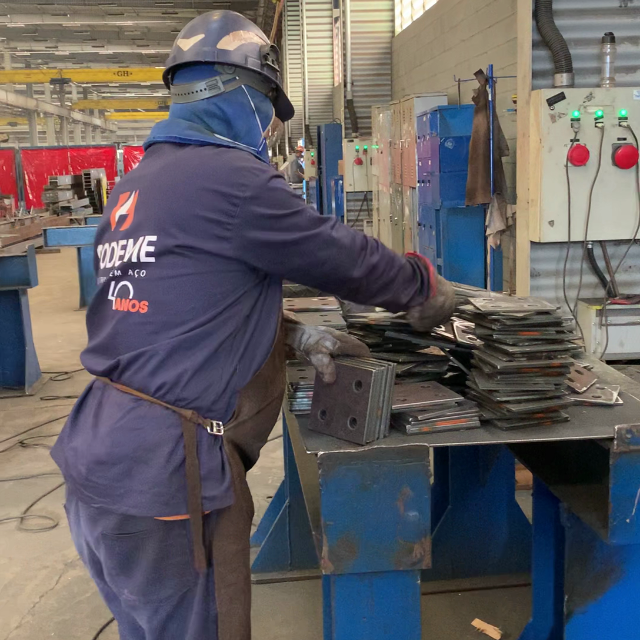glove: (287, 326, 371, 389), (408, 258, 458, 334)
helmet: (155, 8, 297, 124)
person: (48, 6, 456, 640)
